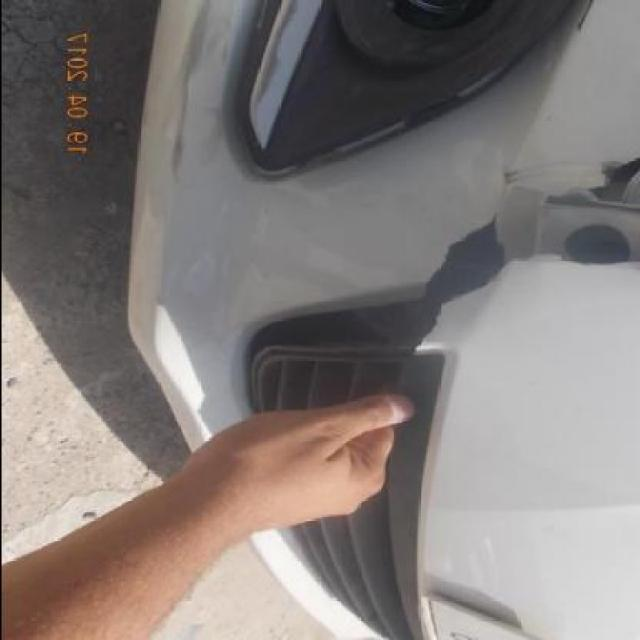damage: (406, 148, 640, 353)
